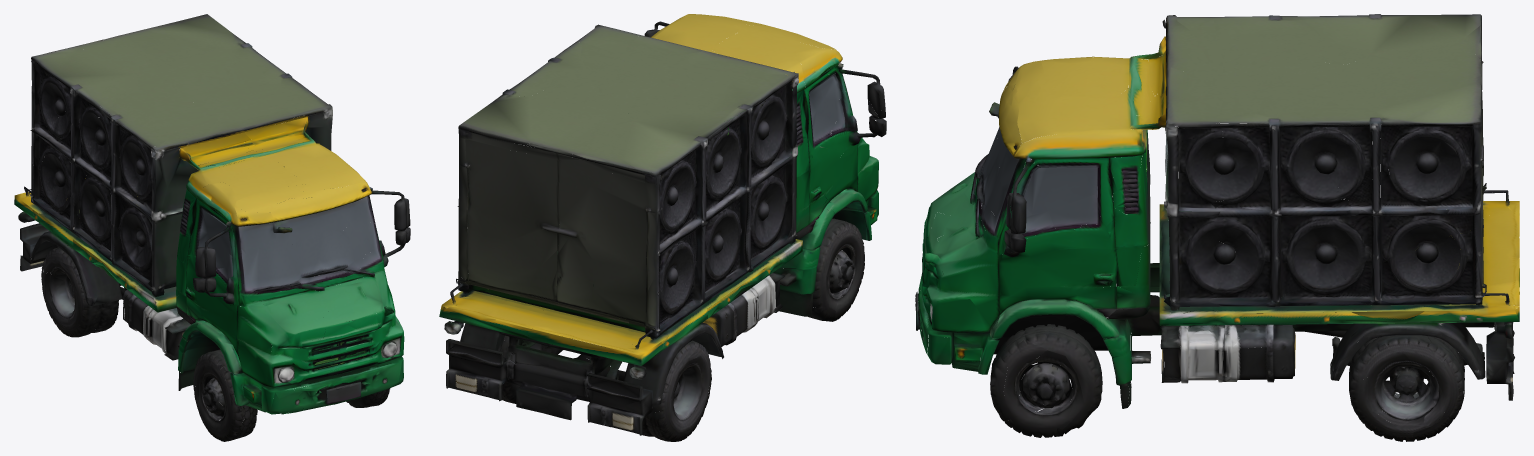
The model's file is truck-v3.glb.
3 views of the same model, side by side, from view 1: azimuth 30°, elevation 25°; view 2: azimuth 150°, elevation 25°; view 3: azimuth 270°, elevation 25° (orthographic). The views are drawn at different scales.
Visible parts, largest first — view 1: tripo_node_904d4596-3dc3-46fb-9ce4-c6cd958846c6, TireMesh, TireMesh.002; view 2: tripo_node_904d4596-3dc3-46fb-9ce4-c6cd958846c6, TireMesh, TireMesh.002; view 3: tripo_node_904d4596-3dc3-46fb-9ce4-c6cd958846c6, TireMesh.001, TireMesh.003.
Boxes of the visible parts, <box> form: tripo_node_904d4596-3dc3-46fb-9ce4-c6cd958846c6: <box>14,14,410,439</box>; TireMesh: <box>198,362,242,441</box>; TireMesh.002: <box>52,261,120,337</box>; tripo_node_904d4596-3dc3-46fb-9ce4-c6cd958846c6: <box>439,14,886,441</box>; TireMesh: <box>827,223,871,319</box>; TireMesh.002: <box>671,332,723,434</box>; tripo_node_904d4596-3dc3-46fb-9ce4-c6cd958846c6: <box>915,14,1519,441</box>; TireMesh.001: <box>983,340,1084,437</box>; TireMesh.003: <box>1330,341,1435,440</box>.
Size of the model in its own units: 3.52 by 4.02 by 6.8.
1 material, 1 textured.
